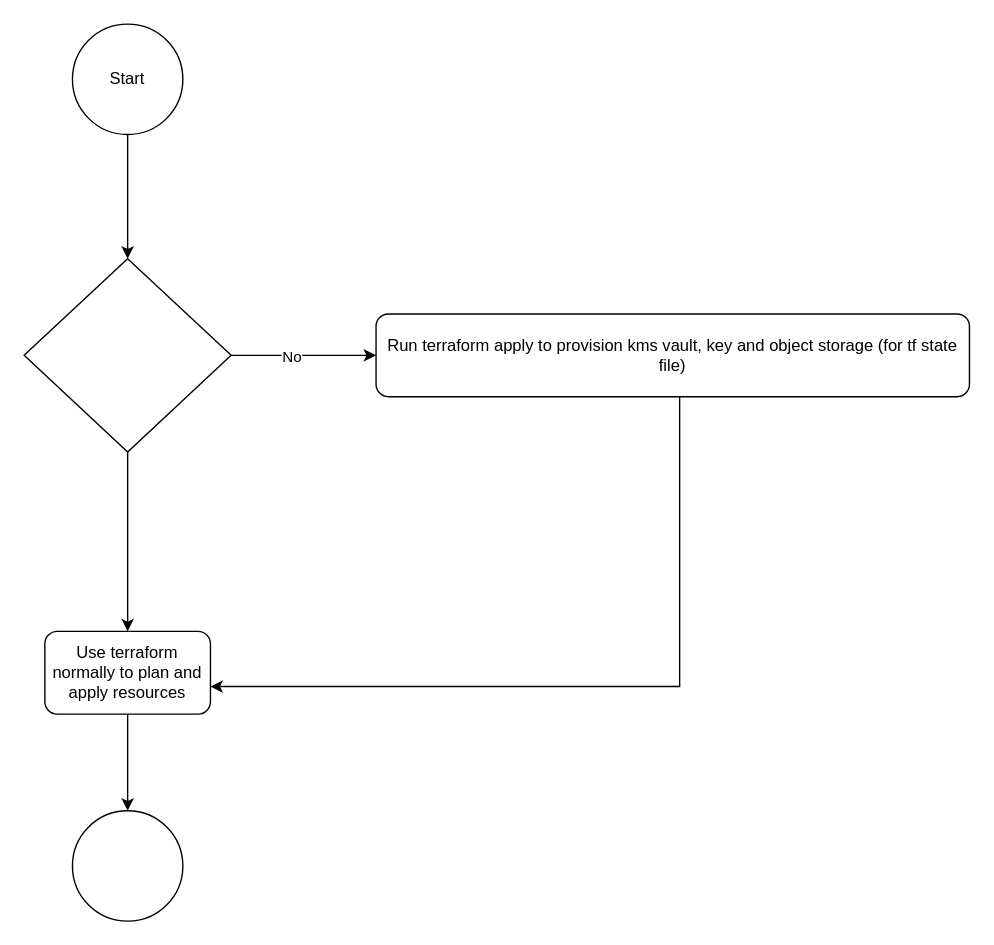
Image size: 994x945. Some labels were removed from this diagram. Each missing label, with the centre of its shape:
End: point (127, 865)
Initialized bootstrap resources?: point (127, 354)
